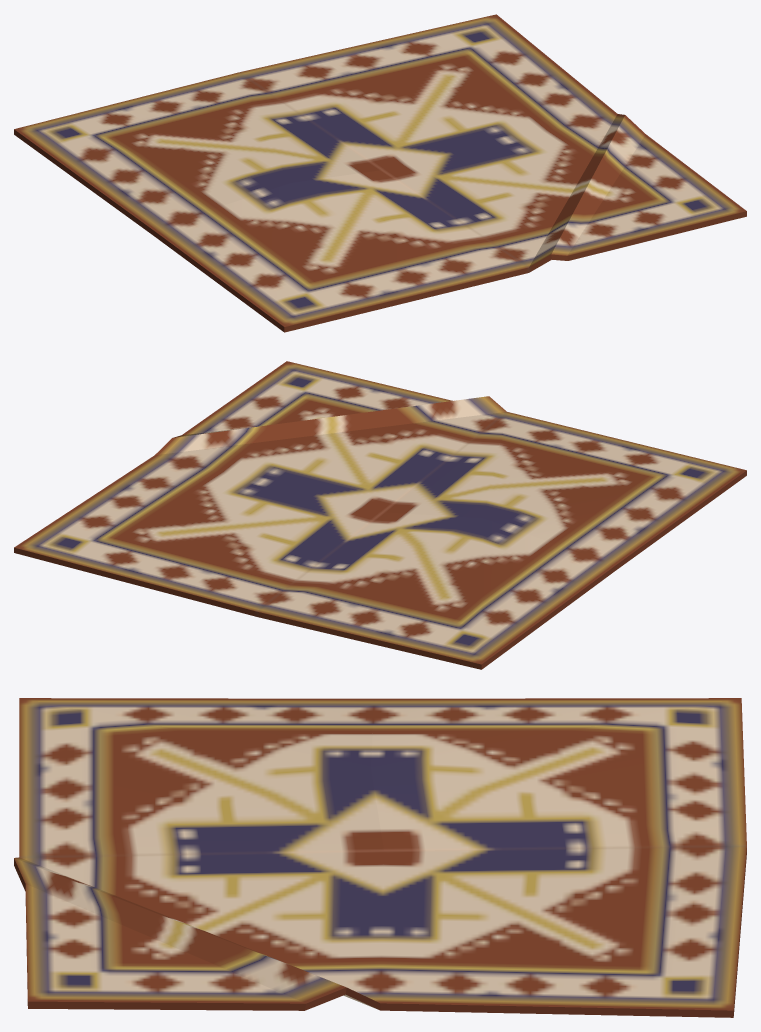
The model's file is SM_Prop_Rug_13.glb.
3 renders of one model, top to bottom at view 1: azimuth 30°, elevation 25°; view 2: azimuth 150°, elevation 25°; view 3: azimuth 270°, elevation 25°, orthographic. The views are drawn at different scales.
Visible parts, largest first — view 1: SM_Prop_Rug_13; view 2: SM_Prop_Rug_13; view 3: SM_Prop_Rug_13.
Part boxes in pixels (<box>): SM_Prop_Rug_13: <box>14,14,746,332</box>; SM_Prop_Rug_13: <box>14,361,746,669</box>; SM_Prop_Rug_13: <box>14,698,746,1017</box>.
Size of the model in its own units: 3.09 by 0.1199 by 3.06.
Materials: 1 (1 with a texture image).
